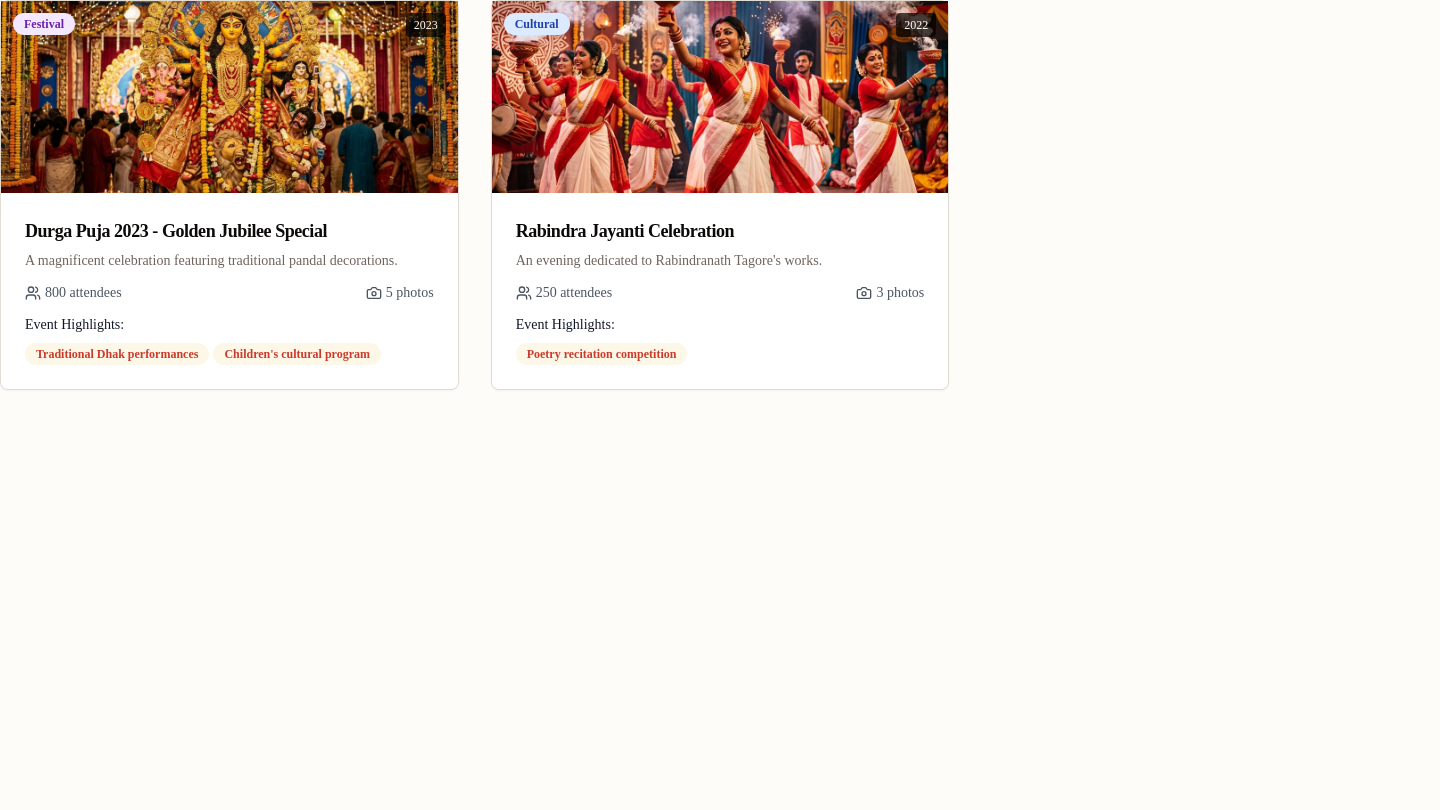
PastYearsGallery Component › navigates images in full viewer using next/previous controls
# Open modal and viewer
Click the text "Durga Puja 2023 - Golden Jubilee Special": click(176, 231) [25,221,327,241]
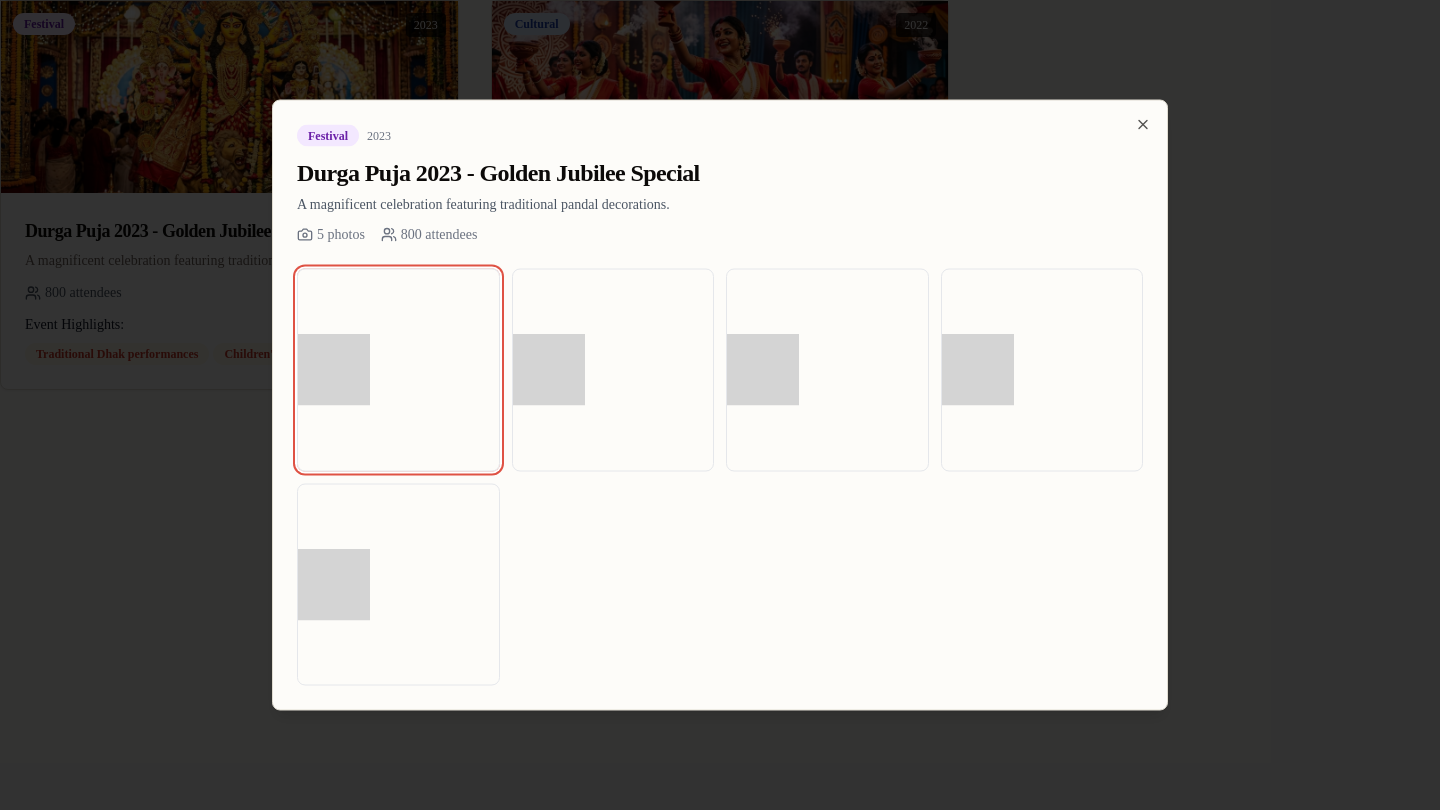
Click the 2nd button named "Event photo": click(398, 370) [297,268,500,471]
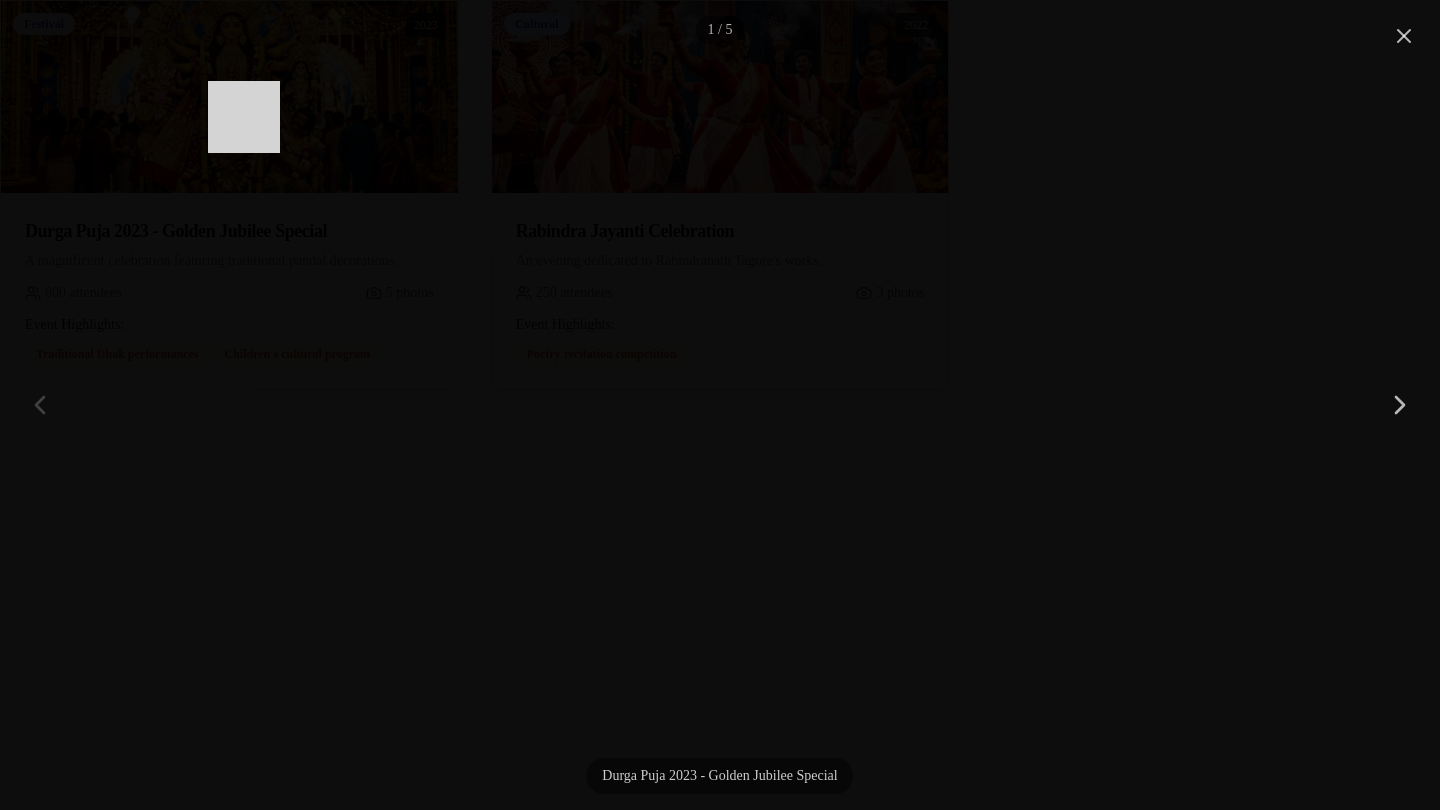
# Click Next image
Click the button named "Next image": click(1400, 405) [1376,381,1424,429]
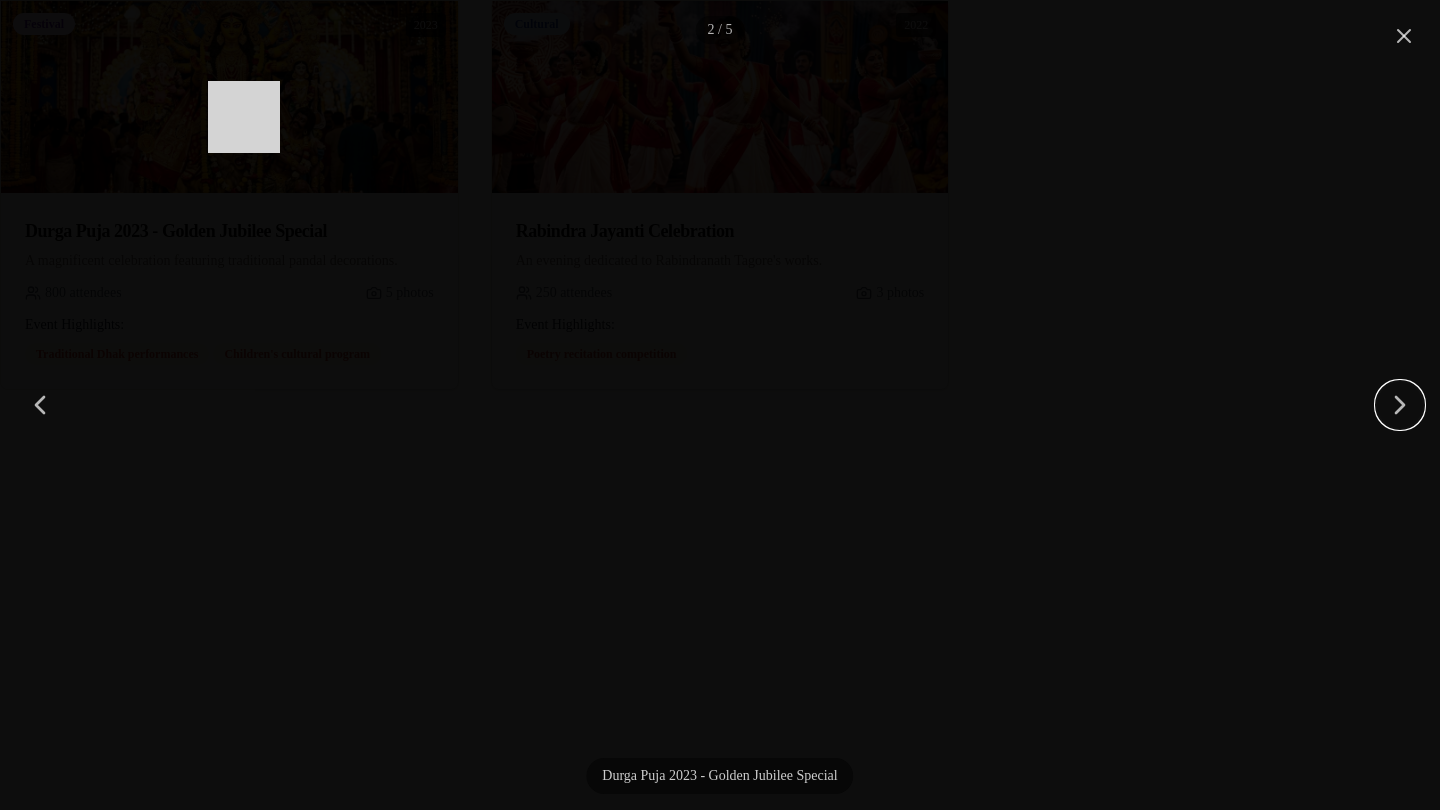
Now the text "2 / 5" is shown, box [696,16,744,44]
# Click Previous image
Click the button named "Previous image": click(40, 405) [16,381,64,429]
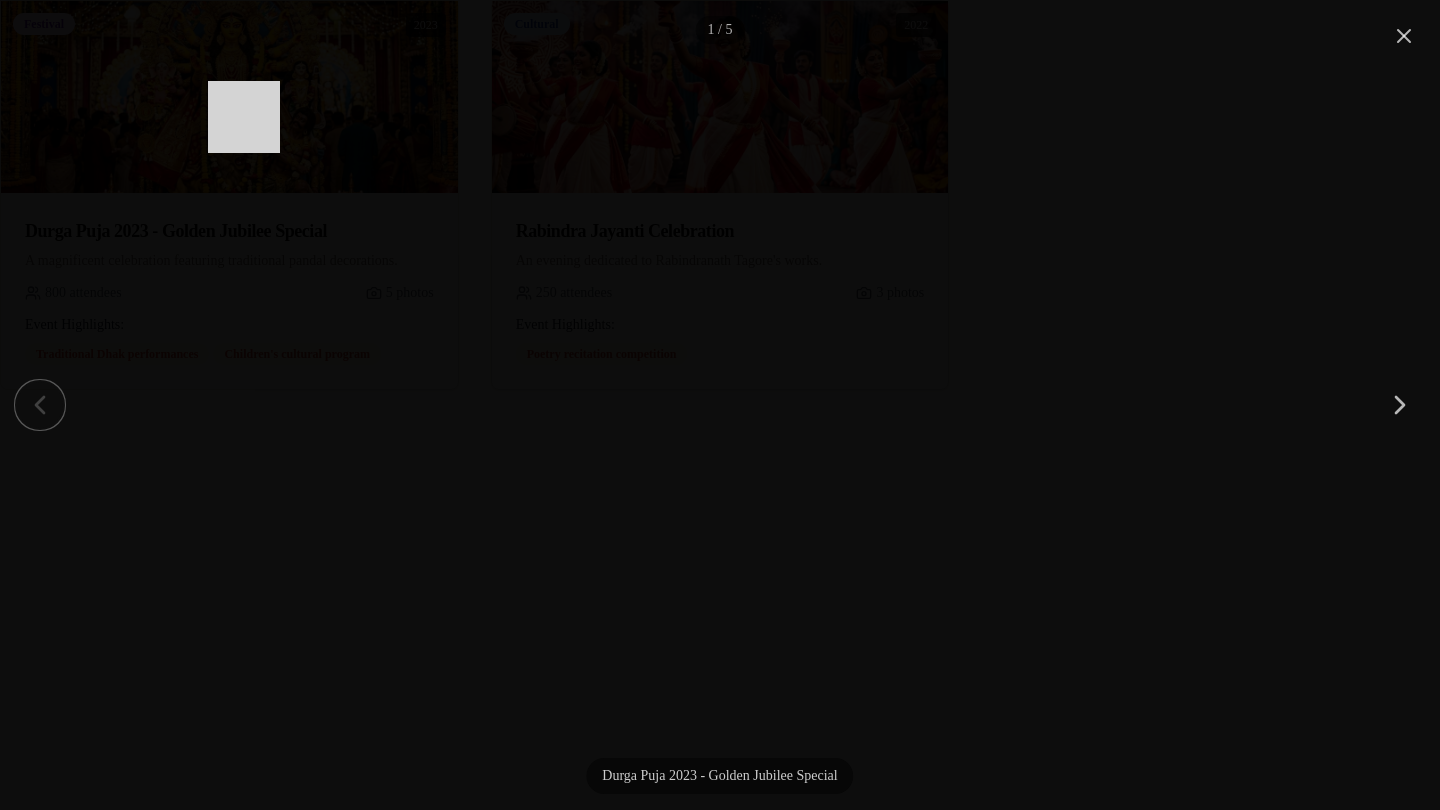
Now the text "1 / 5" is shown, box [696,16,744,44]
